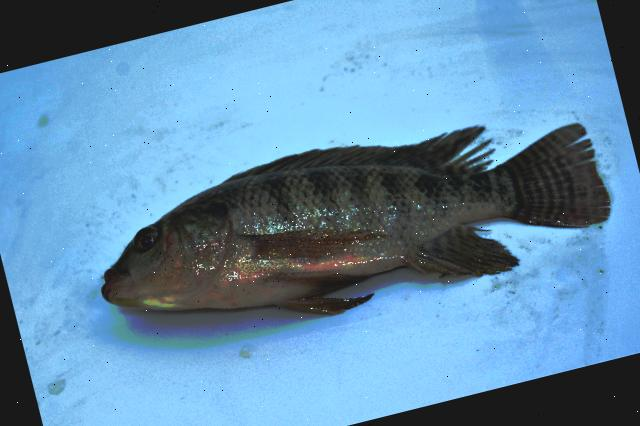Columnaris Disease: (102, 124, 610, 314)
